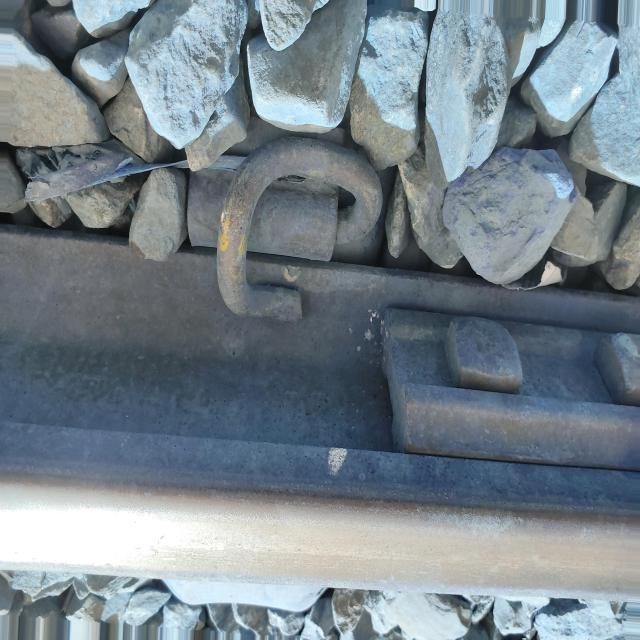Good Fasteners: (187, 136, 383, 321)
